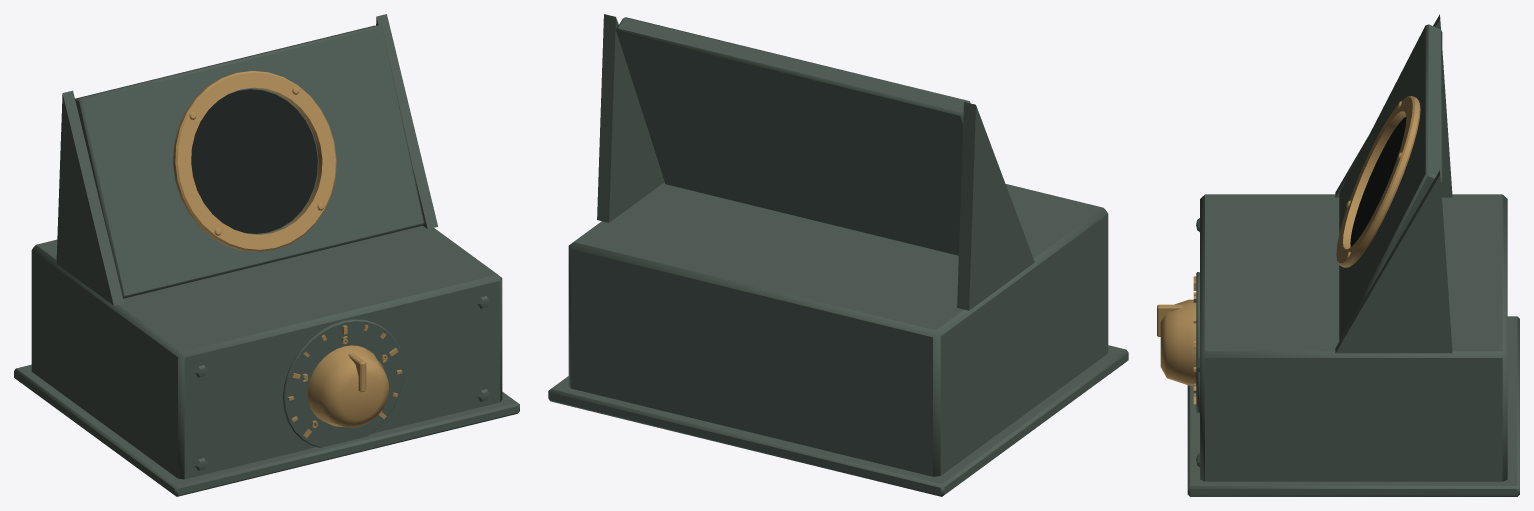
File: keeper_knob.glb
The picture shows the model from 3 angles, left to right: view 1: azimuth 30°, elevation 25°; view 2: azimuth 150°, elevation 25°; view 3: azimuth 270°, elevation 25°; orthographic projection. The views are drawn at different scales.
Parts seen in each view (by area): view 1: keeper_body, osc_screen, IA_keeper; view 2: keeper_body; view 3: keeper_body, IA_keeper, osc_screen.
Part boxes in pixels (x1=…): keeper_body: x1=14, y1=14, x2=519, y2=496; osc_screen: x1=191, y1=89, x2=317, y2=233; IA_keeper: x1=307, y1=345, x2=388, y2=427; keeper_body: x1=548, y1=14, x2=1128, y2=496; keeper_body: x1=1187, y1=14, x2=1519, y2=496; IA_keeper: x1=1157, y1=299, x2=1196, y2=385; osc_screen: x1=1350, y1=117, x2=1406, y2=246.
Size of the model in its own units: 0.66 by 0.57 by 0.59.
